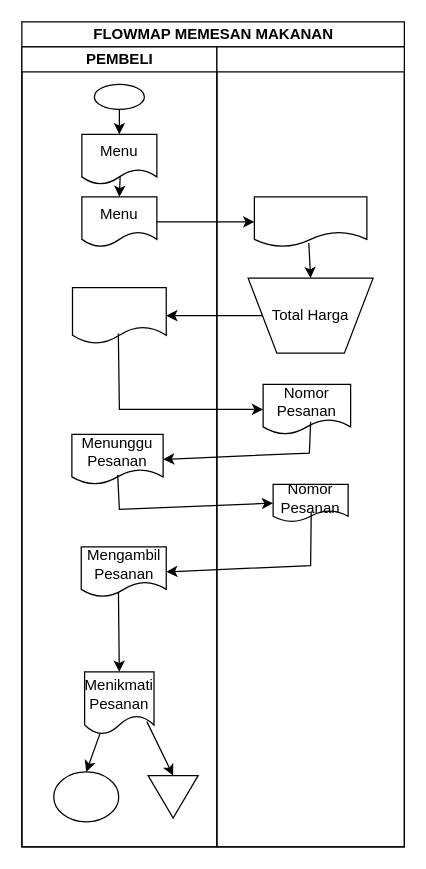
Some shapes in this 426 by 869 pixel diagram are drawn without their labels. Here are the shapes that lost their labels. From the top down, the box of each, then its label:
(93, 83, 144, 109): mulai
(253, 196, 367, 247): Konfirmasi Menu
(71, 286, 166, 344): Membayar
(216, 46, 404, 847): KASIR
(52, 771, 119, 822): selesai
